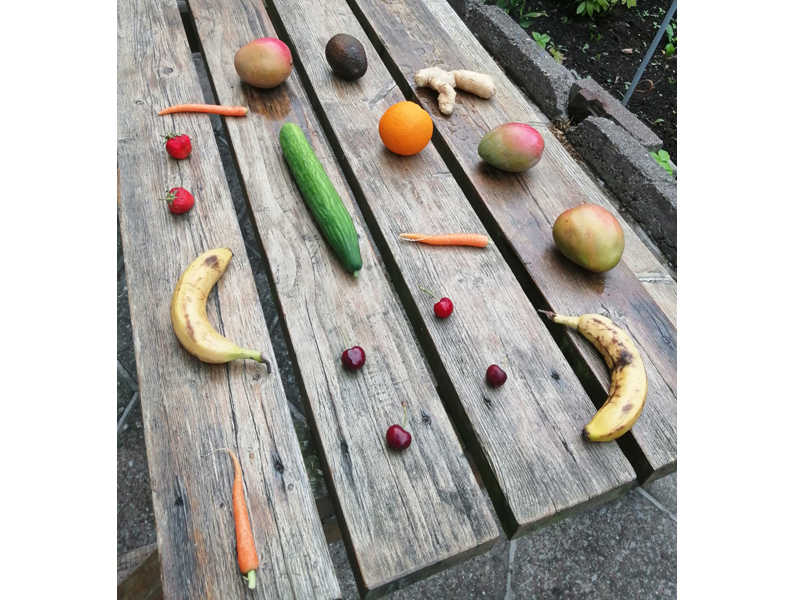avocado: (315, 23, 382, 83)
banana: (518, 292, 653, 447), (166, 235, 277, 384)
carrot: (193, 434, 277, 592), (147, 94, 259, 120)
cherry: (407, 279, 472, 326), (373, 401, 422, 461), (477, 350, 519, 397), (337, 334, 375, 378)
cucumber: (267, 115, 371, 283)
ginger: (428, 60, 499, 114)
mango: (537, 190, 627, 281), (474, 114, 549, 174), (225, 35, 302, 92)
orange: (372, 98, 442, 159)
